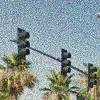traffic lights: (18, 28, 30, 59), (61, 49, 72, 76), (88, 62, 97, 87)
